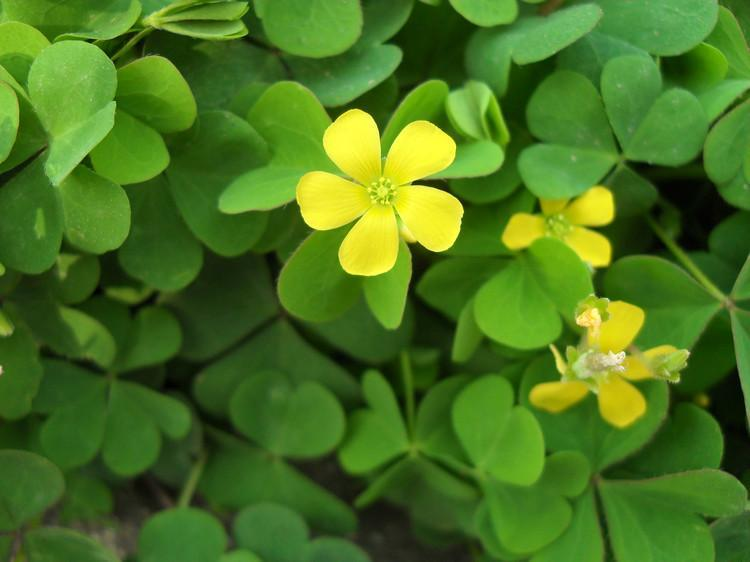oxalis: (209, 333, 567, 562), (467, 5, 750, 211), (17, 36, 189, 261)
